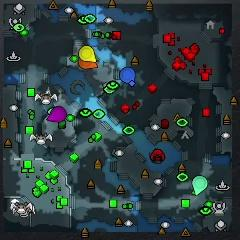p1: (120, 67, 136, 84)
p2: (193, 176, 208, 195)
p3: (48, 106, 67, 122)
p4: (80, 45, 96, 62)
p5: (79, 57, 98, 69)
